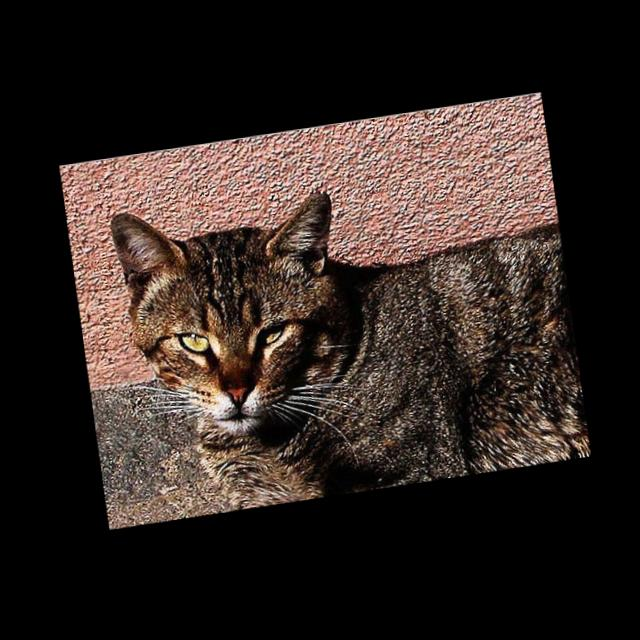animals: (118, 187, 346, 417)
